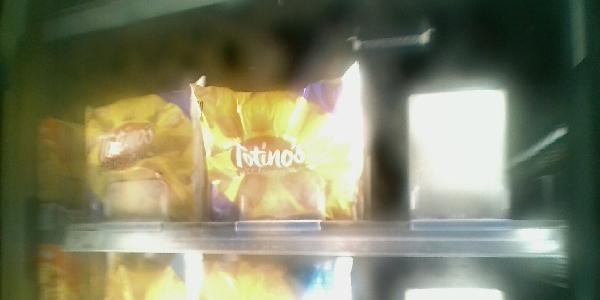icecream: (191, 77, 377, 227), (73, 93, 209, 216)
